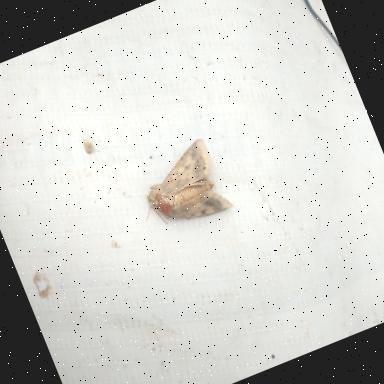abw: (124, 134, 234, 238)
